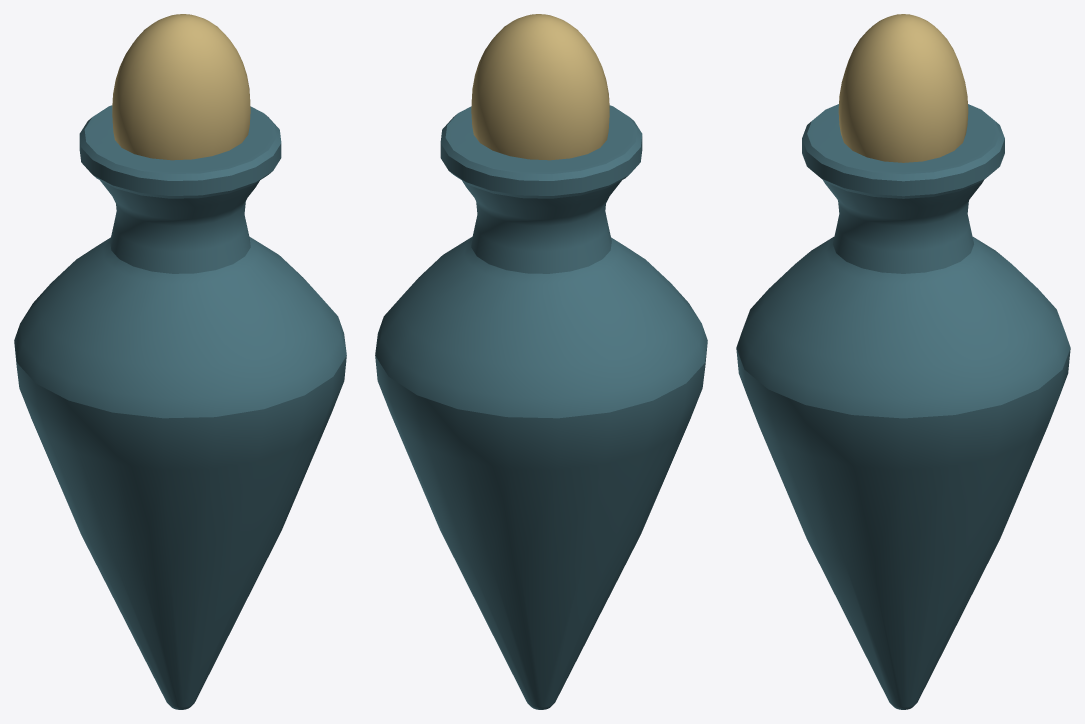
The model's file is Potion.fbx.
3 renders of one model, left to right at view 1: azimuth 30°, elevation 25°; view 2: azimuth 150°, elevation 25°; view 3: azimuth 270°, elevation 25°, orthographic.
Parts seen in each view (by area): view 1: Potions, Bouchon; view 2: Potions, Bouchon; view 3: Potions, Bouchon.
Boxes of the visible parts, x1=… form: Potions: x1=14, y1=105, x2=346, y2=709; Bouchon: x1=112, y1=14, x2=250, y2=160; Potions: x1=375, y1=105, x2=707, y2=709; Bouchon: x1=471, y1=14, x2=609, y2=160; Potions: x1=736, y1=104, x2=1070, y2=709; Bouchon: x1=838, y1=14, x2=968, y2=162.
Bounding box in the file's own units: 9.39 × 21.34 × 9.39.
